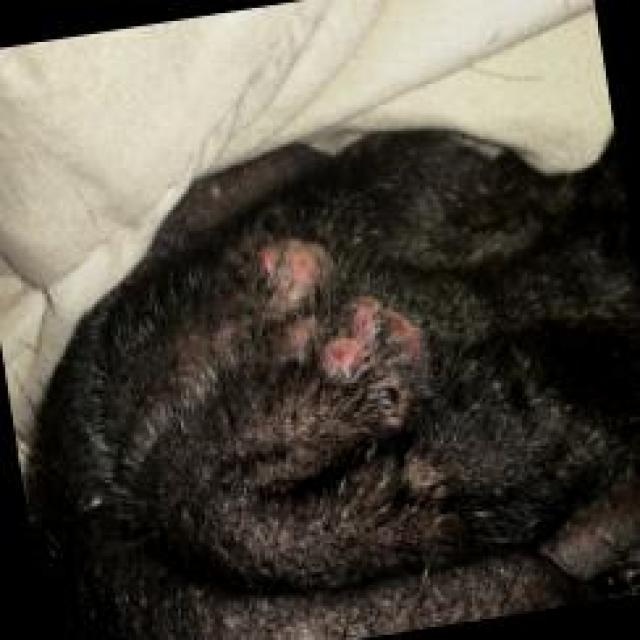allergic dermatitis: (323, 298, 429, 414), (255, 242, 324, 362)
